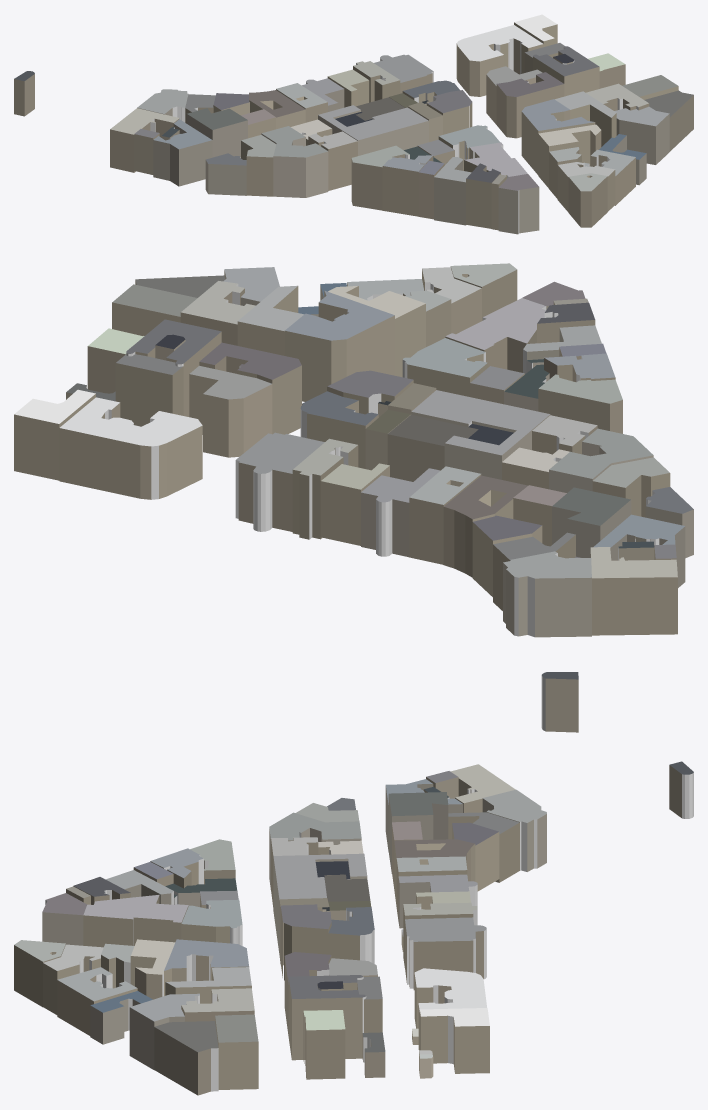
3 renders of one model, top to bottom at view 1: azimuth 30°, elevation 25°; view 2: azimuth 150°, elevation 25°; view 3: azimuth 270°, elevation 25°, orthographic. The views are drawn at different scales.
Visible parts, largest first — view 1: tuile; view 2: tuile; view 3: tuile.
Boxes of the visible parts, left/top/right/bottom form: tuile: left=14, top=14, right=693, bottom=234; tuile: left=14, top=263, right=693, bottom=732; tuile: left=14, top=761, right=693, bottom=1095.
Bounding box in the file's own units: 265 × 29.85 × 255.
